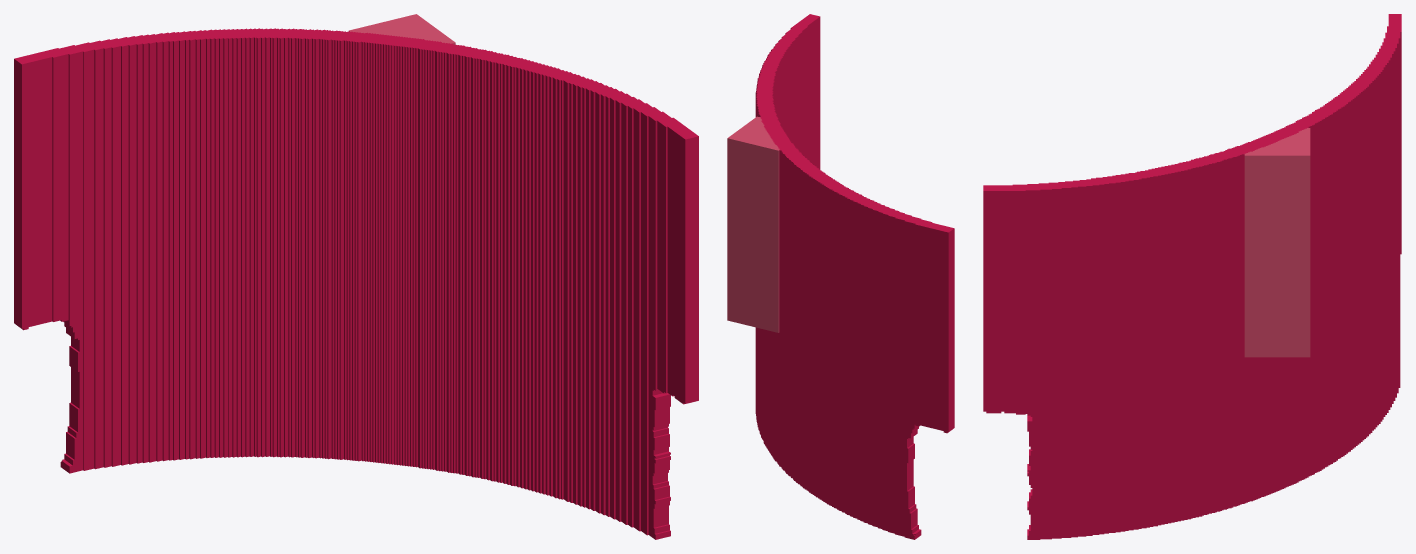
File: base_with_flag_elements-17.obj
3 renders of one model, left to right at view 1: azimuth 30°, elevation 25°; view 2: azimuth 150°, elevation 25°; view 3: azimuth 270°, elevation 25°, orthographic. The views are drawn at different scales.
Bounding box in the file's own units: 25.6 × 23.6 × 25.6.
Materials: 1 (1 with a texture image).
